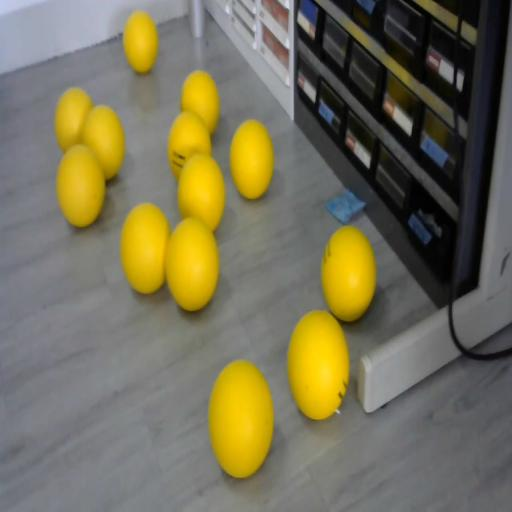FUEL: (208, 358, 274, 476), (286, 308, 350, 420), (164, 215, 220, 310), (322, 225, 376, 321), (120, 202, 170, 294), (174, 152, 226, 231), (228, 119, 274, 199), (80, 104, 126, 182), (180, 70, 220, 135), (122, 10, 158, 74)
